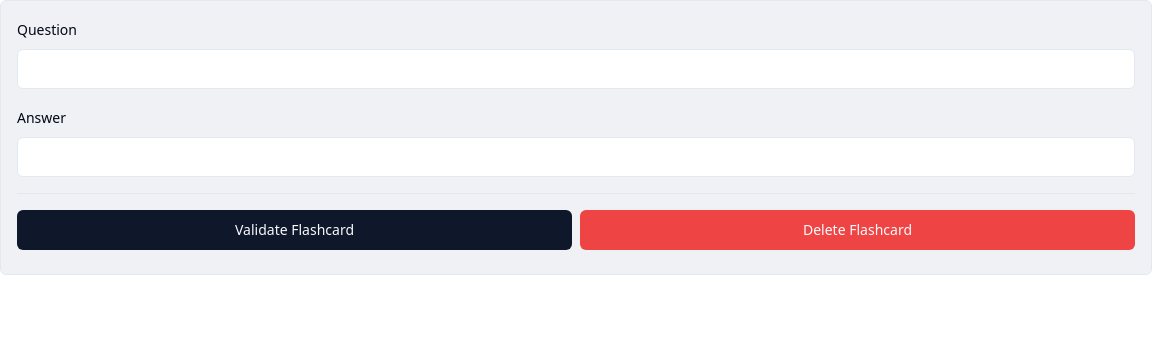
Test case: CreateFlashcard Component › shows validation messages when submitting without values
Click the button "Validate Flashcard" at (294, 230), box [17,210,572,250]
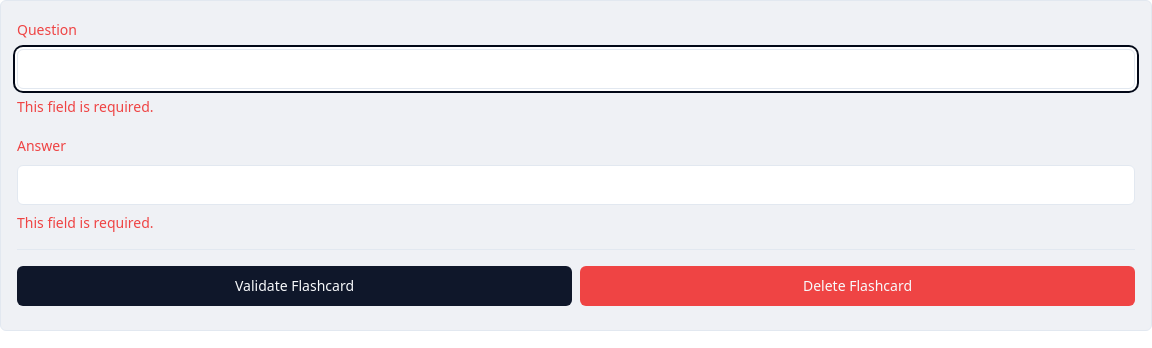
Check: the text "This field is required." below "Question" is shown, box [17,97,154,116]
Check: the text "This field is required." below "Answer" is shown, box [17,213,154,232]
